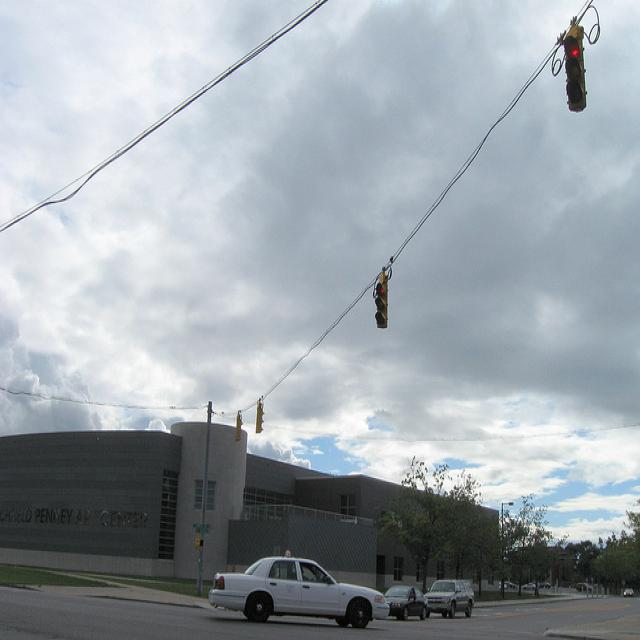Vehicle: (204, 548, 390, 628), (424, 579, 474, 619), (386, 585, 429, 621), (576, 582, 592, 592), (523, 582, 536, 591), (624, 588, 634, 598), (505, 582, 517, 590), (500, 580, 508, 590), (538, 583, 551, 589)
